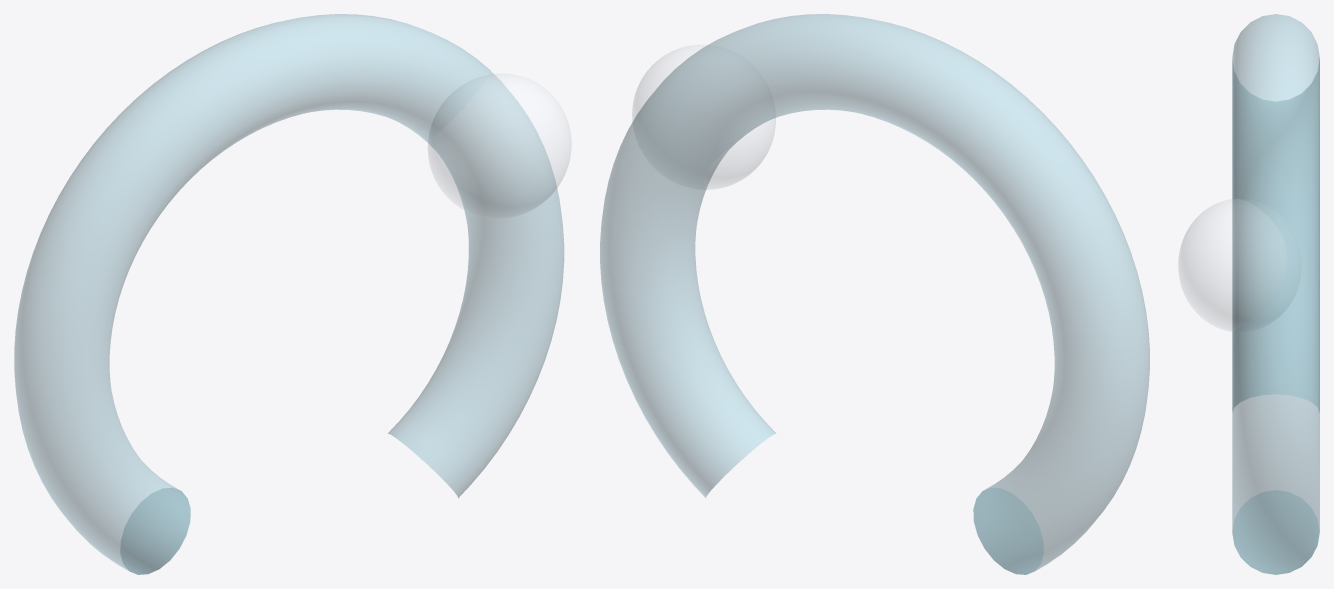
3 views of the same model, side by side, from view 1: azimuth 30°, elevation 25°; view 2: azimuth 150°, elevation 25°; view 3: azimuth 270°, elevation 25° (orthographic). The views are drawn at different scales.
Visible parts, largest first — view 1: arc-guide, orbit-grip; view 2: arc-guide, orbit-grip; view 3: arc-guide, orbit-grip.
Boxes of the visible parts, left/top/right/bottom form: arc-guide: left=14, top=14, right=563, bottom=574; orbit-grip: left=428, top=74, right=571, bottom=218; arc-guide: left=600, top=14, right=1149, bottom=574; orbit-grip: left=632, top=45, right=775, bottom=189; arc-guide: left=1232, top=14, right=1319, bottom=574; orbit-grip: left=1178, top=199, right=1287, bottom=331.
Bounding box in the file's own units: 2.2 × 1.98 × 0.55.
